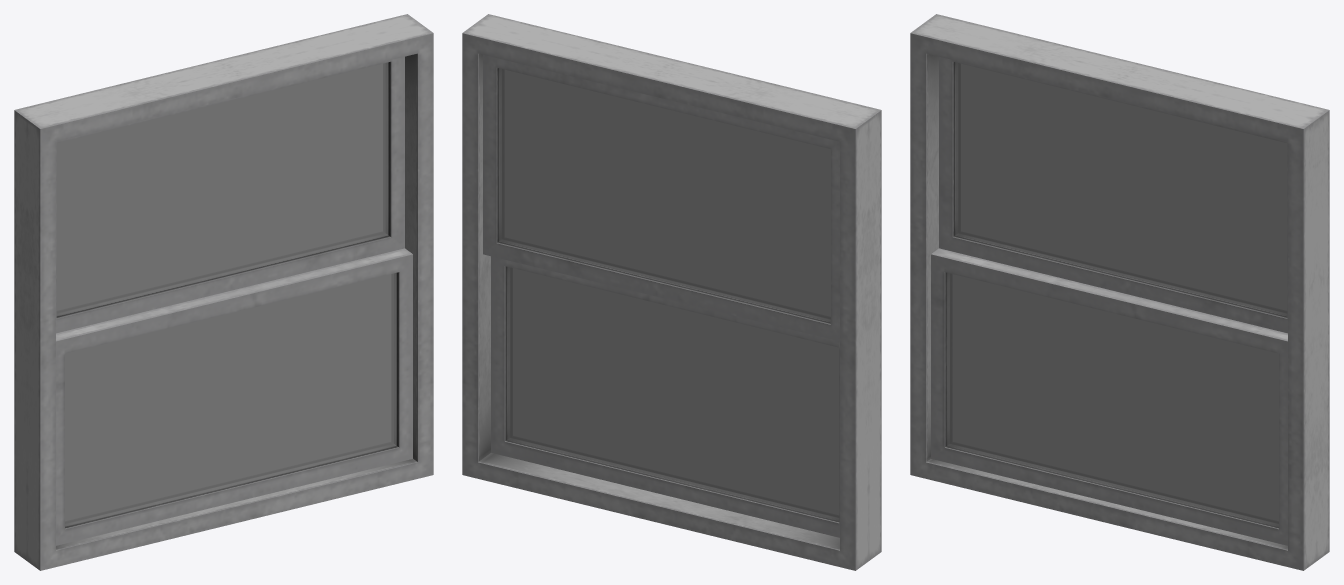
Rendered from Warehouse Office Window 1.fbx.
3 views of the same model, side by side, from view 1: azimuth 30°, elevation 25°; view 2: azimuth 150°, elevation 25°; view 3: azimuth 330°, elevation 25° (orthographic).
Parts seen in each view (by area): view 1: Window_2, Window_1, Window_Frame; view 2: Window_1, Window_2, Window_Frame; view 3: Window_2, Window_1, Window_Frame.
Boxes of the visible parts, bbox=[...] form: Window_2: bbox=[56, 248, 412, 545]; Window_1: bbox=[56, 56, 404, 333]; Window_Frame: bbox=[14, 14, 433, 570]; Window_1: bbox=[483, 54, 839, 341]; Window_2: bbox=[491, 256, 839, 537]; Window_Frame: bbox=[462, 14, 881, 570]; Window_2: bbox=[931, 248, 1287, 545]; Window_1: bbox=[939, 56, 1287, 333]; Window_Frame: bbox=[910, 14, 1329, 570].
Bounding box in the file's own units: 100 × 107 × 11.53.
